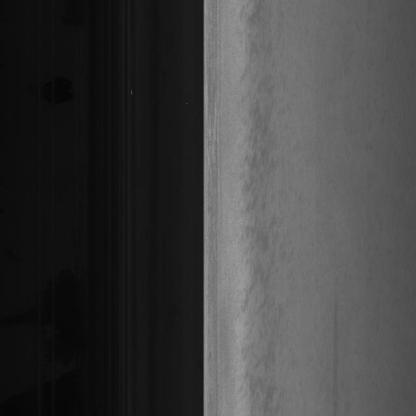silk_spot: (237, 176, 277, 314)
